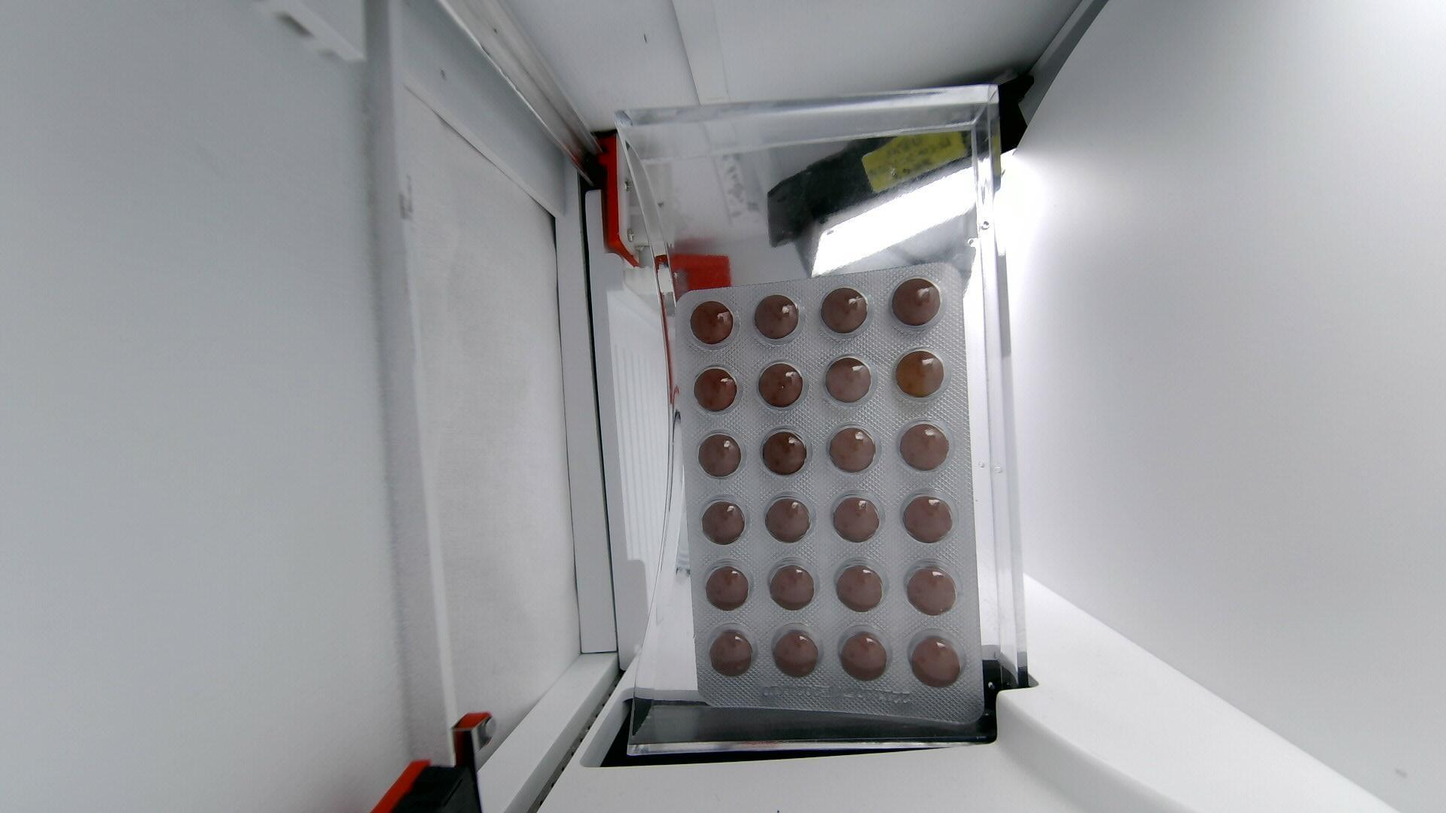Light Front: (673, 263, 993, 735)
Pill Front: (889, 276, 957, 330), (909, 629, 962, 687), (771, 624, 819, 678), (899, 422, 949, 470), (906, 565, 954, 615), (903, 495, 954, 542), (840, 632, 887, 681), (896, 350, 944, 397), (828, 426, 876, 472), (820, 288, 868, 333), (825, 356, 871, 402), (836, 565, 882, 611), (834, 496, 880, 542), (709, 629, 752, 676), (766, 498, 810, 543), (705, 565, 749, 610), (758, 363, 804, 406), (691, 301, 736, 344), (754, 296, 799, 339), (700, 501, 745, 544), (763, 431, 806, 475), (770, 565, 813, 609), (694, 367, 736, 410), (699, 434, 740, 477)
